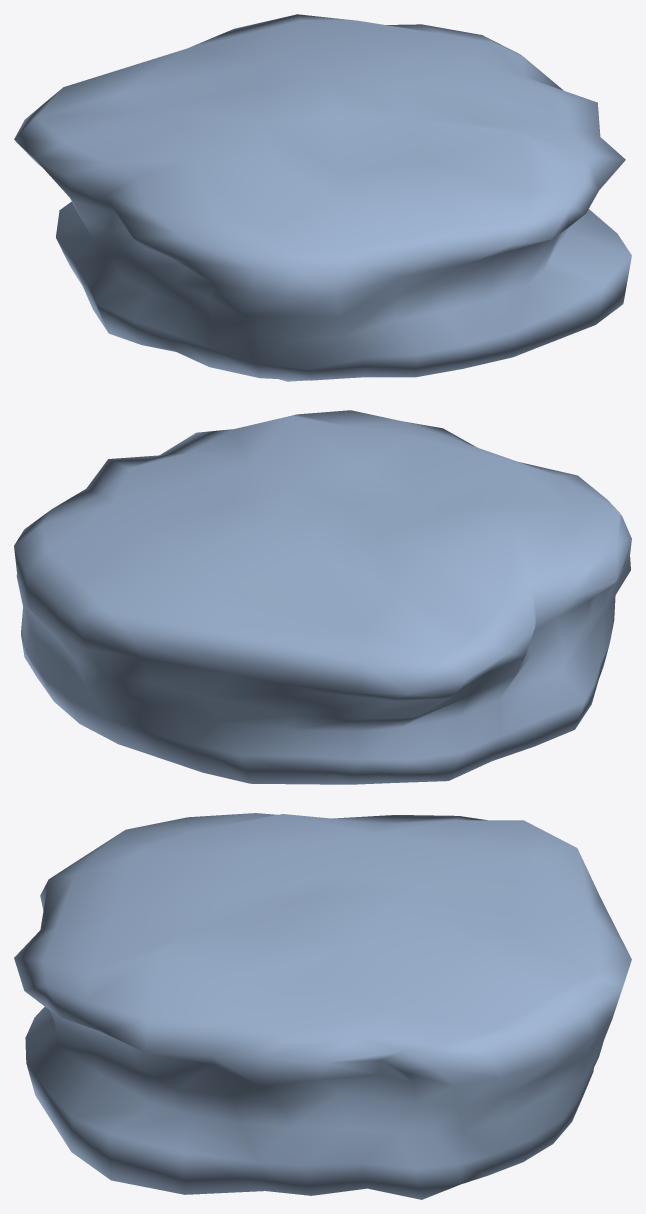
Rendered from junRoadPlatform10.fbx.
The picture shows the model from 3 angles, top to bottom: view 1: azimuth 30°, elevation 25°; view 2: azimuth 150°, elevation 25°; view 3: azimuth 270°, elevation 25°; orthographic projection. The views are drawn at different scales.
Parts seen in each view (by area): view 1: platform10_LOD0; view 2: platform10_LOD0; view 3: platform10_LOD0.
Boxes of the visible parts, x1,y1,x2,y2 form: platform10_LOD0: [14, 14, 631, 381]; platform10_LOD0: [14, 410, 631, 784]; platform10_LOD0: [14, 813, 631, 1199].
Bounding box in the file's own units: 1099 × 450 × 1116.
